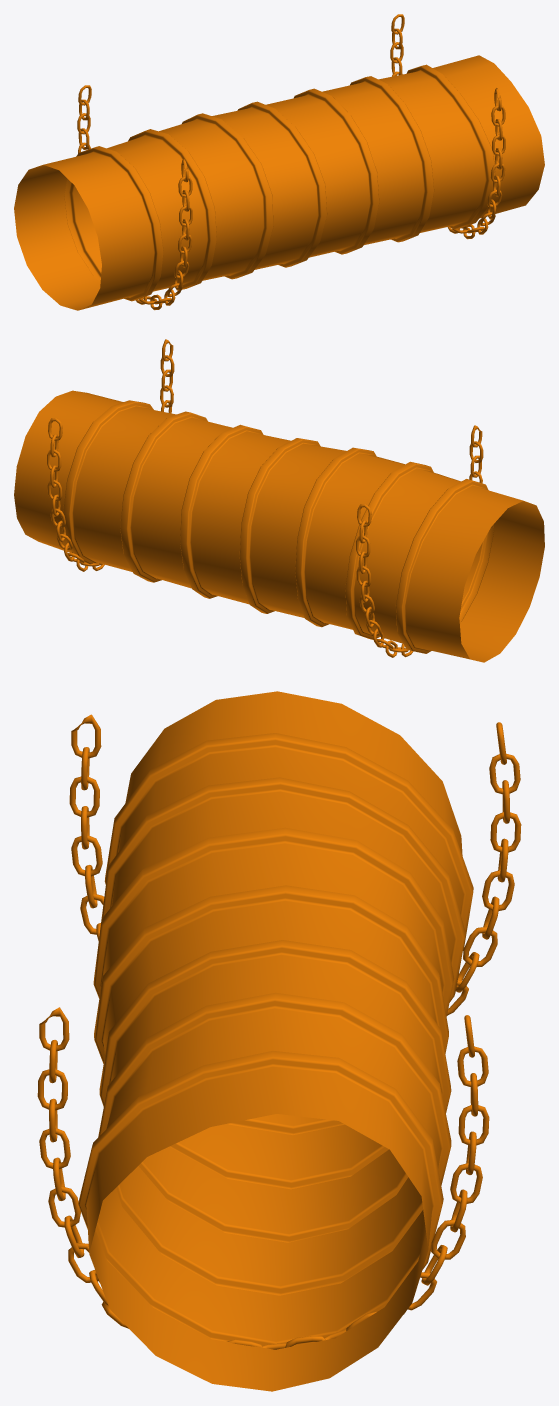
Rendered from Barrel.fbx.
3 views of the same model, one above another, from view 1: azimuth 30°, elevation 25°; view 2: azimuth 150°, elevation 25°; view 3: azimuth 270°, elevation 25° (orthographic). The views are drawn at different scales.
Parts seen in each view (by area): view 1: Wire_ProtectingBarrel_Low.001; view 2: Wire_ProtectingBarrel_Low.001; view 3: Wire_ProtectingBarrel_Low.001.
Part boxes in pixels (x1,y1,x2,y2): Wire_ProtectingBarrel_Low.001: (14,14,544,310); Wire_ProtectingBarrel_Low.001: (14,339,544,662); Wire_ProtectingBarrel_Low.001: (37,691,521,1391).
Size of the model in its own units: 205 by 81.19 by 97.91.
